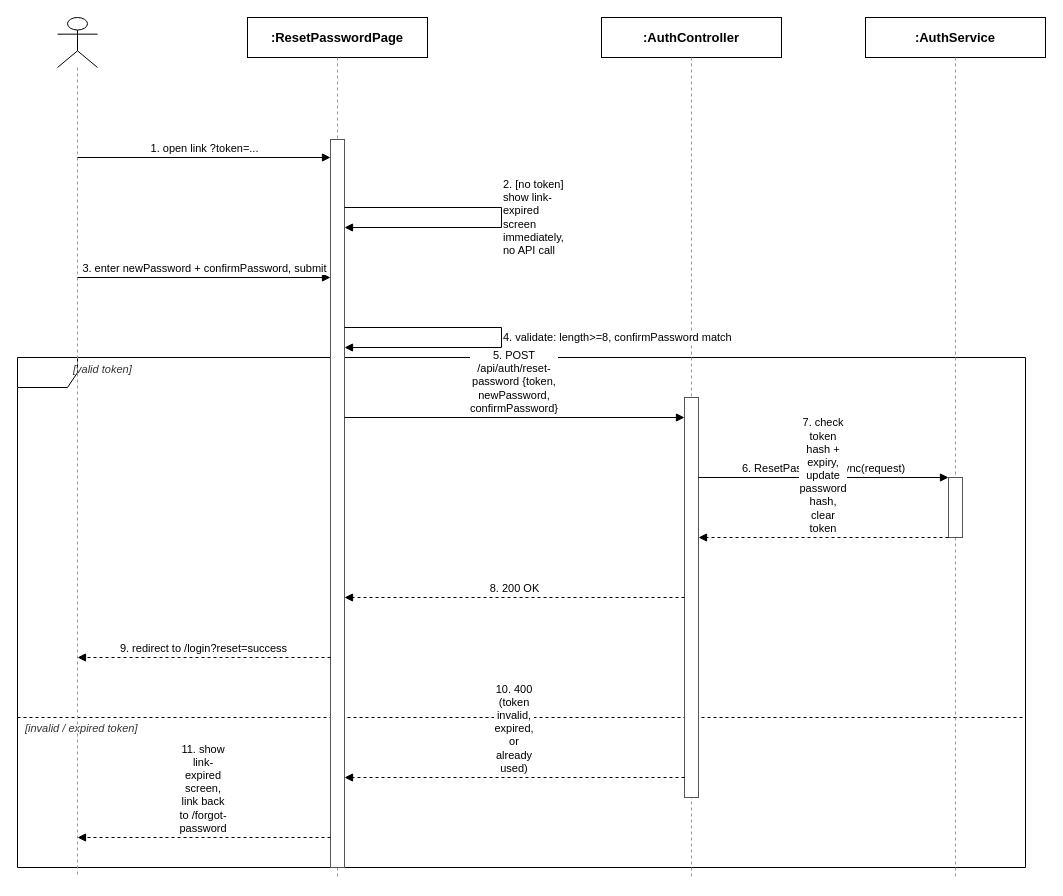
Image size: 1063x896. Some labels were removed from this diagram. Here are the shapes that lost their labels. From the top down, the box of each, then its label:
(56, 16, 98, 68): User
(16, 356, 1026, 868): alt
